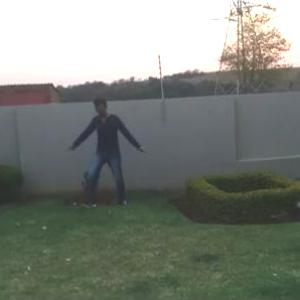land: (67, 103, 146, 212)
